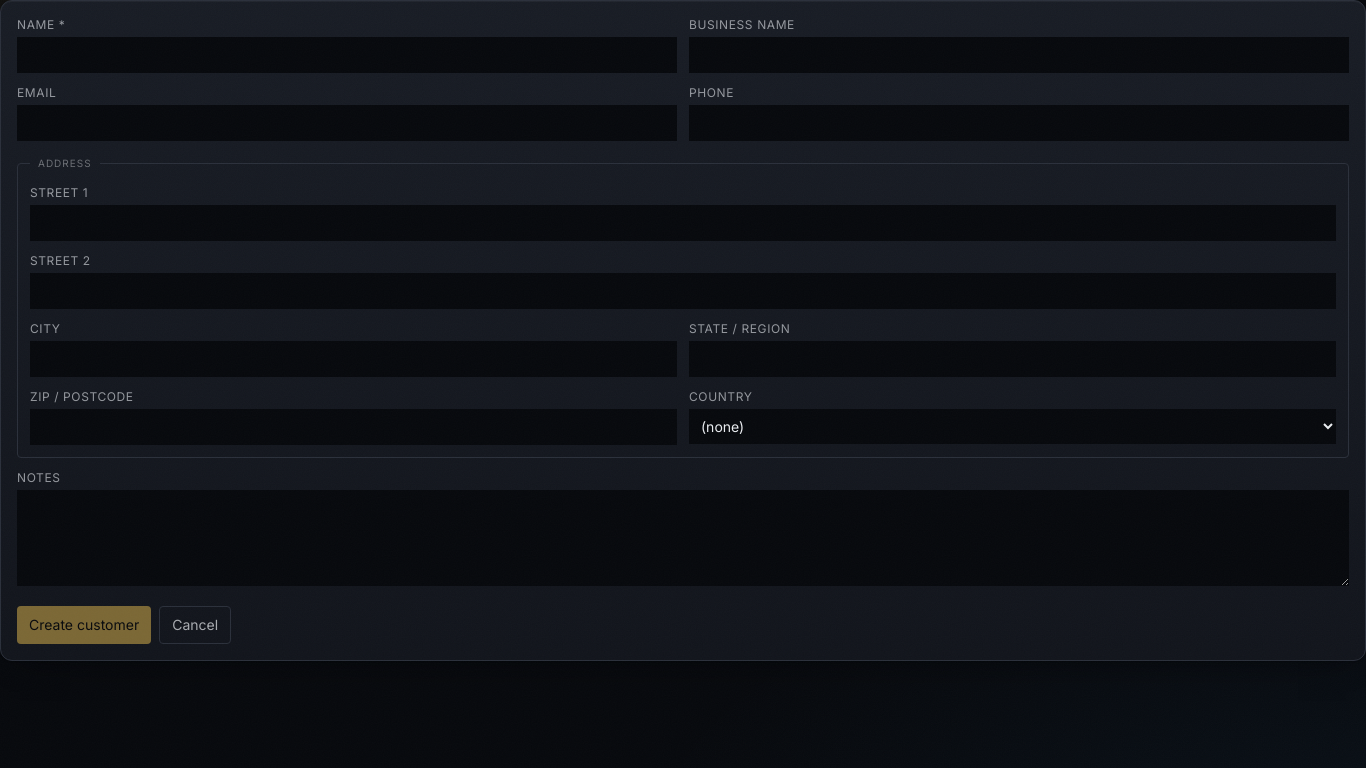
CustomerForm — create mode › disables submit when name is empty
This screenshot has width=1366, height=768.
Expected: the button "Create customer" is disabled, [17,606,151,644]
Type "x" into the field labelled "Name".
click(347, 55); type("x")  # box [17,37,677,73]
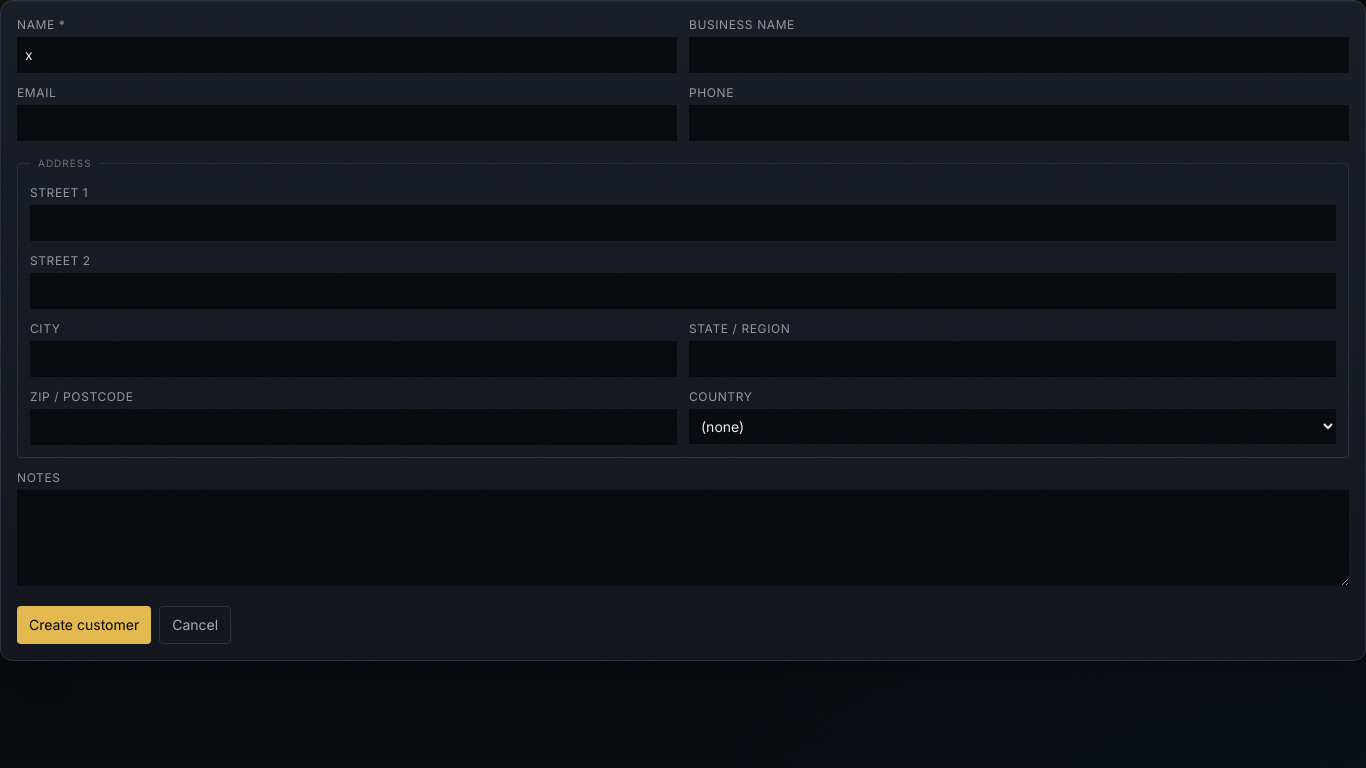
Expected: the button "Create customer" is enabled, [17,606,151,644]
